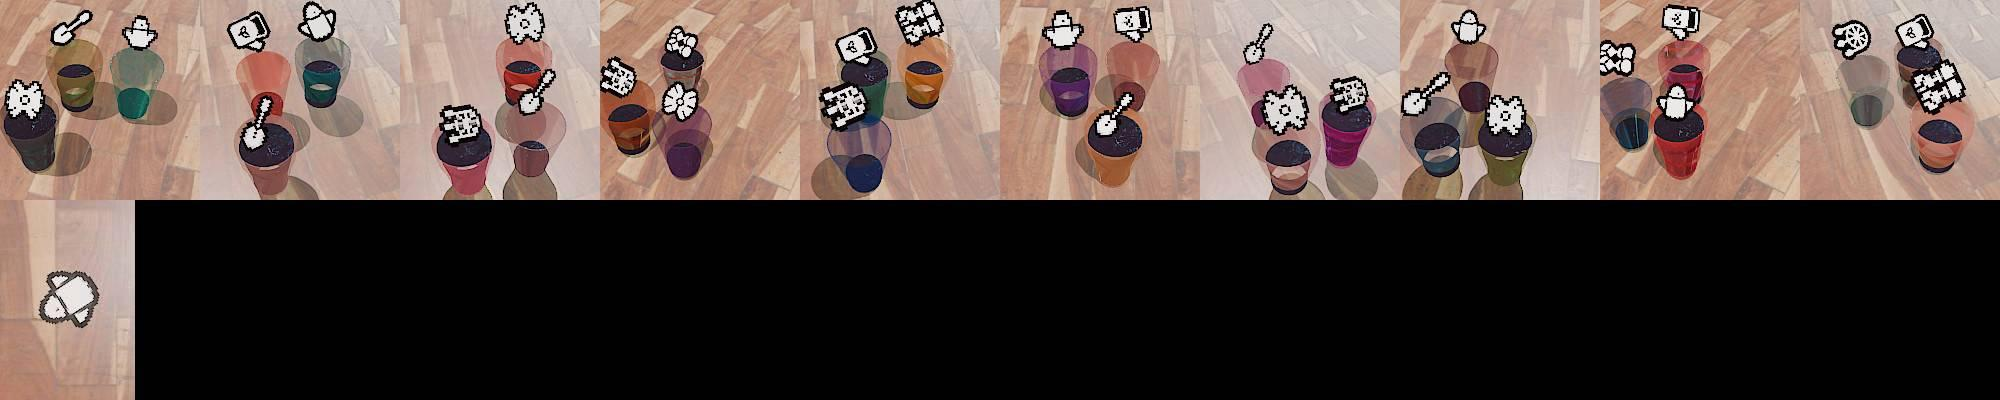icon: (37, 269, 99, 327), (1908, 60, 1967, 116), (1259, 82, 1311, 135), (819, 82, 870, 132), (1404, 69, 1453, 115), (515, 66, 557, 117), (895, 1, 943, 46), (1483, 93, 1528, 138), (436, 102, 482, 145), (1093, 89, 1135, 136), (4, 78, 47, 122), (226, 10, 269, 54), (241, 94, 276, 148), (1042, 9, 1085, 51), (1325, 74, 1370, 115), (504, 1, 545, 46), (659, 80, 700, 124), (1830, 19, 1872, 60), (1656, 82, 1699, 121), (834, 25, 878, 65), (1112, 5, 1154, 45), (298, 1, 338, 42), (51, 9, 93, 47), (662, 24, 702, 64), (1661, 5, 1702, 43), (599, 56, 636, 97), (1598, 39, 1636, 78), (1895, 14, 1935, 51), (1449, 9, 1487, 45), (1242, 22, 1273, 65), (121, 15, 158, 50)
